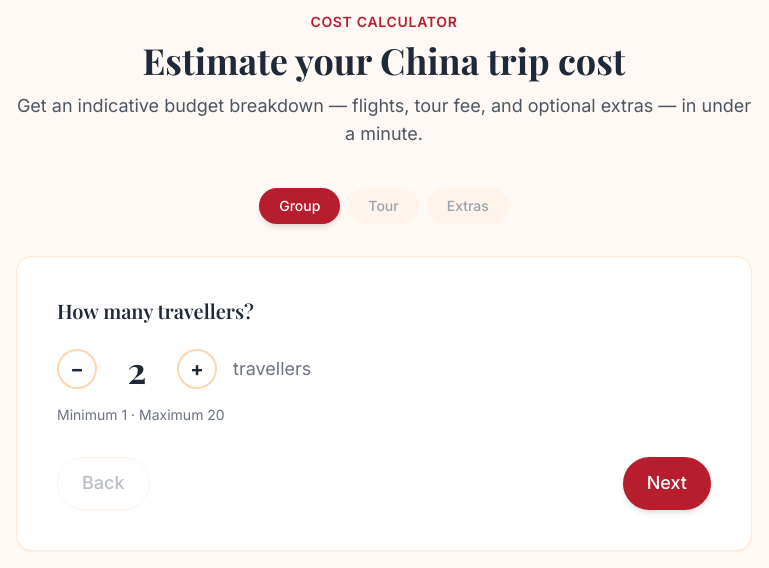
CostCalculator component › decreases group size when − clicked
What coordinates should you click on to do the following:
click the button named "Increase group size"
I would click on:
 (197, 369)
Its box is [177,349,217,389].
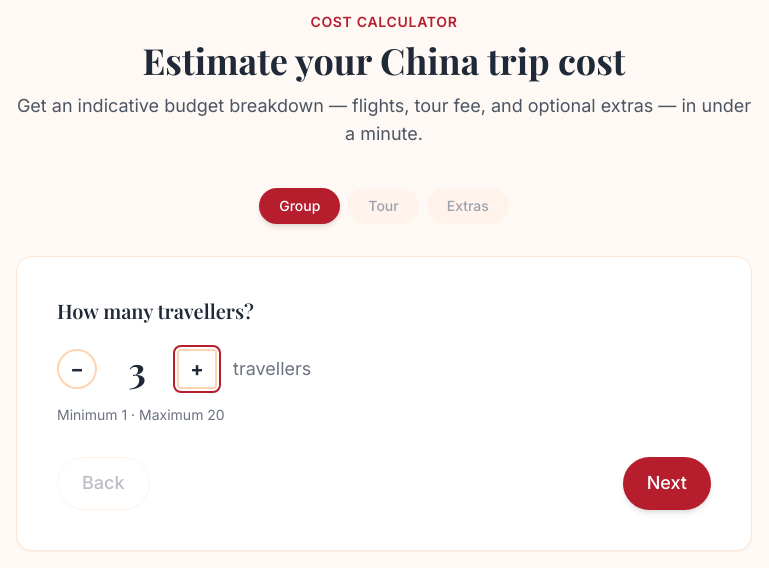
What coordinates should you click on to do the following:
click the button named "Decrease group size"
I would click on:
 (77, 369)
Its box is [57,349,97,389].
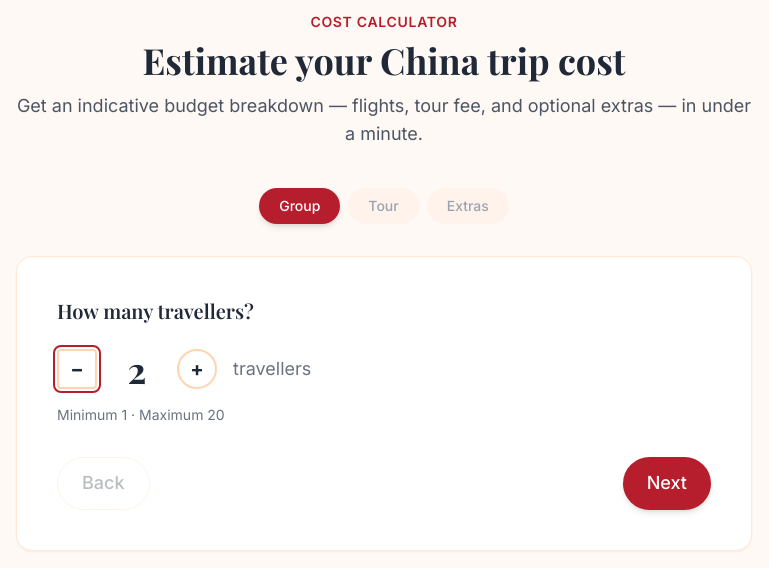
Check: the text "2" is shown, box [128,345,146,393]
